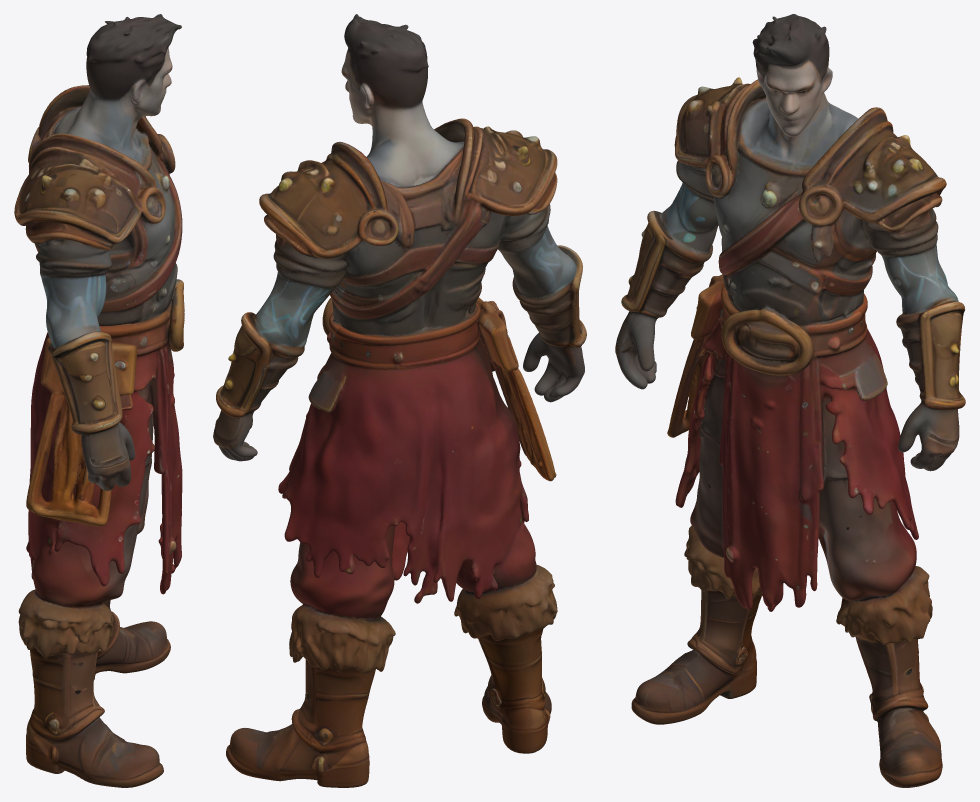
File: البطل.glb
3 renders of one model, left to right at view 1: azimuth 30°, elevation 25°; view 2: azimuth 150°, elevation 25°; view 3: azimuth 270°, elevation 25°, orthographic. The views are drawn at different scales.
Visible parts, largest first — view 1: tripo_node_0c863b58-ec74-4e30-99ca-82b9c0a8d6a3; view 2: tripo_node_0c863b58-ec74-4e30-99ca-82b9c0a8d6a3; view 3: tripo_node_0c863b58-ec74-4e30-99ca-82b9c0a8d6a3.
Part boxes in pixels (<box>): tripo_node_0c863b58-ec74-4e30-99ca-82b9c0a8d6a3: <box>14,14,184,787</box>; tripo_node_0c863b58-ec74-4e30-99ca-82b9c0a8d6a3: <box>213,14,586,787</box>; tripo_node_0c863b58-ec74-4e30-99ca-82b9c0a8d6a3: <box>615,14,965,787</box>.
Size of the model in its own units: 0.3541 by 1 by 0.4383.
1 material, 1 textured.
